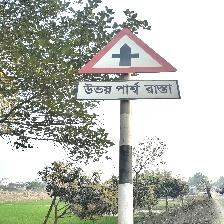Crossroad: (72, 17, 192, 108)
